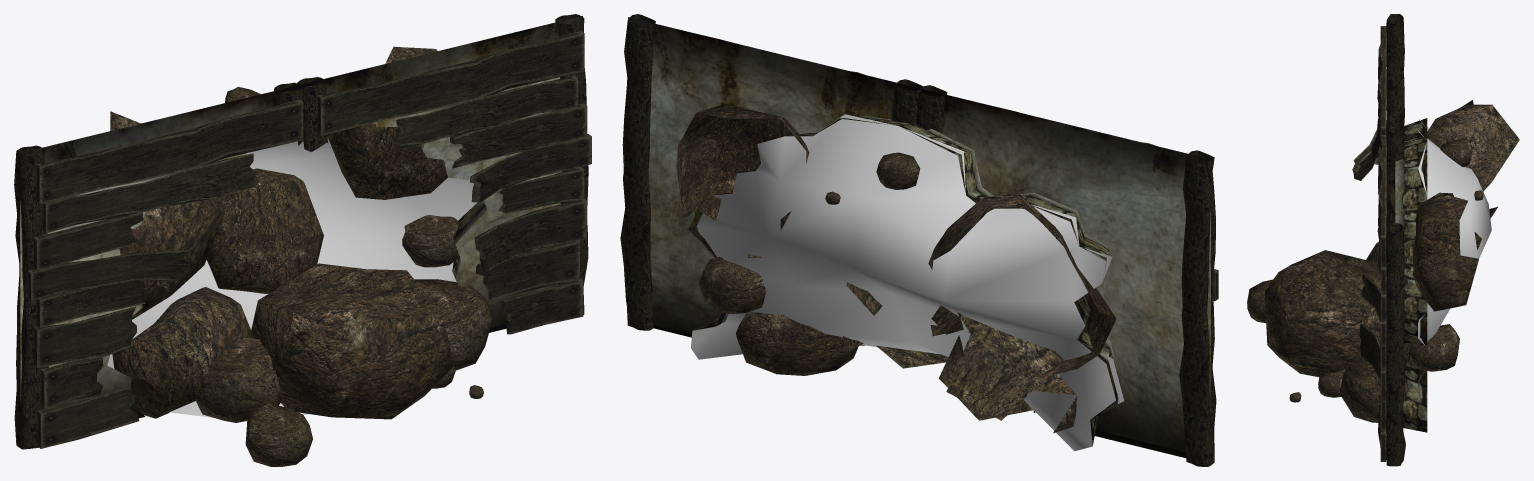
Rendered from default02_broken_4x8m.dae.
3 views of the same model, side by side, from view 1: azimuth 30°, elevation 25°; view 2: azimuth 150°, elevation 25°; view 3: azimuth 270°, elevation 25° (orthographic). The views are drawn at different scales.
Visible parts, largest first — view 1: polySurface128, polySurface111, polySurface33, polySurface68, polySurface83, polySurface34; view 2: polySurface68, polySurface33, polySurface111, polySurface83, polySurface34; view 3: polySurface111, polySurface83, polySurface34, polySurface128, polySurface68.
Part boxes in pixels (x1,y1,x2,y2): polySurface128: (27, 31, 591, 448); polySurface111: (110, 46, 492, 466); polySurface33: (20, 16, 582, 418); polySurface68: (107, 137, 476, 421); polySurface83: (14, 14, 588, 449); polySurface34: (420, 143, 487, 282); polySurface68: (691, 114, 1124, 451); polySurface33: (628, 17, 1210, 457); polySurface111: (676, 104, 1116, 433); polySurface83: (620, 14, 1216, 466); polySurface34: (688, 116, 1120, 445); polySurface111: (1247, 100, 1519, 422); polySurface83: (1385, 14, 1405, 466); polySurface34: (1395, 118, 1427, 432); polySurface128: (1352, 26, 1386, 461); polySurface68: (1418, 118, 1491, 396).
Bounding box in the file's own units: 8.09 × 4.1 × 4.22.
